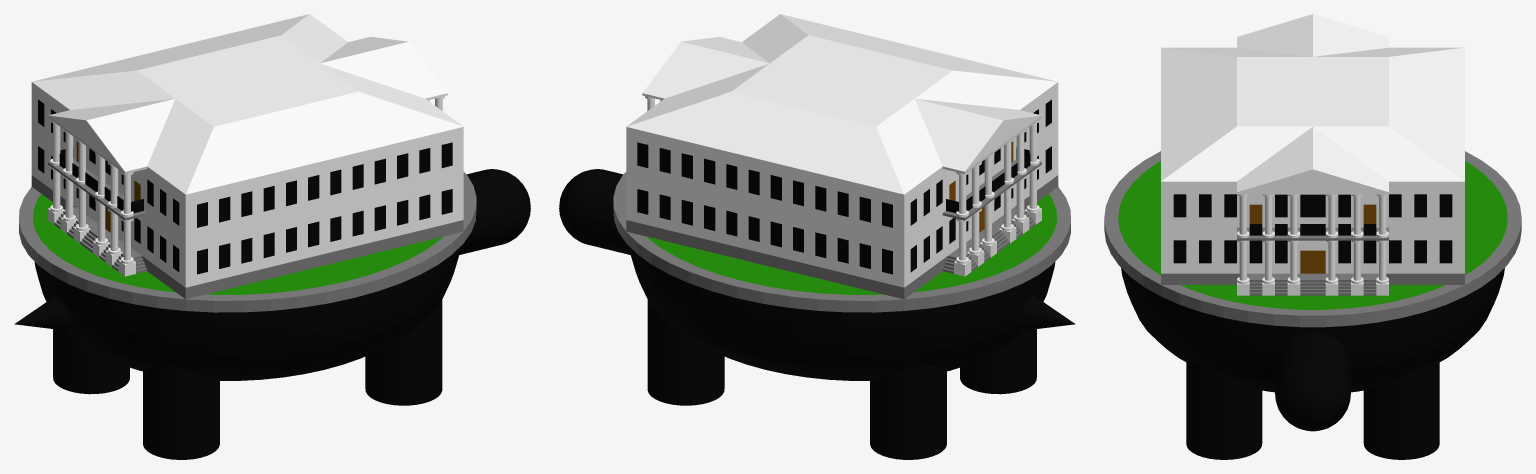
The model's file is Doliveve.fbx.
3 views of the same model, side by side, from view 1: azimuth 30°, elevation 25°; view 2: azimuth 150°, elevation 25°; view 3: azimuth 270°, elevation 25° (orthographic).
Visible parts, largest first — view 1: Cube.034, Cube.995, Shadow Body, Ground, Windows, Circle.005, Grass, Circle.006, Cube.288, Cylinder.032, Cube.089, Cube.152 (+6 smaller); view 2: Cube.034, Cube.995, Shadow Body, Ground, Windows, Circle.004, Grass, Circle.001, Cube.288, Cylinder.032, Cube.089, Cube.152 (+6 smaller); view 3: Cube.034, Shadow Body, Cube.995, Ground, Grass, Circle, Windows, Circle.001, Circle.006, Cube.089, Cylinder.032, Cube.288 (+7 smaller).
Part boxes in pixels (x1,y1,x2,y2): Cube.034: (32,14,463,194); Cube.995: (31,82,463,287); Shadow Body: (34,247,460,380); Ground: (19,172,476,312); Windows: (38,99,452,274); Circle.005: (143,365,219,459); Grass: (33,194,442,294); Circle.006: (365,300,442,405); Cube.288: (48,98,174,171); Cylinder.032: (50,96,444,263); Cube.089: (320,36,447,98); Cube.152: (31,175,463,299); Cube.034: (626,14,1057,194); Cube.995: (626,82,1058,287); Shadow Body: (629,247,1055,380); Ground: (613,172,1070,312); Windows: (637,99,1051,274); Circle.004: (870,365,946,459); Grass: (647,194,1056,294); Circle.001: (647,300,724,405); Cube.288: (915,98,1041,171); Cylinder.032: (645,96,1039,263); Cube.089: (642,36,769,98); Cube.152: (626,175,1058,299); Cube.034: (1161,47,1464,181); Shadow Body: (1121,268,1504,392); Cube.995: (1161,181,1464,273); Ground: (1104,151,1521,327); Grass: (1118,161,1507,309); Circle: (1275,333,1350,431); Windows: (1173,194,1452,263); Circle.001: (1363,361,1439,459); Circle.006: (1186,361,1262,459); Cube.089: (1237,127,1388,192); Cylinder.032: (1237,194,1388,284); Cube.288: (1237,14,1388,56).
Size of the model in its own units: 4600 by 2600 by 3294.
